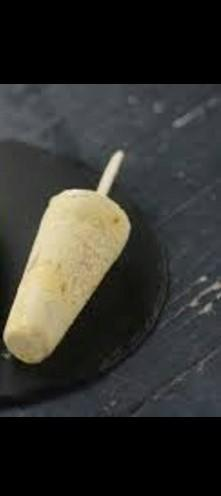Kulfi: (4, 187, 130, 364)
